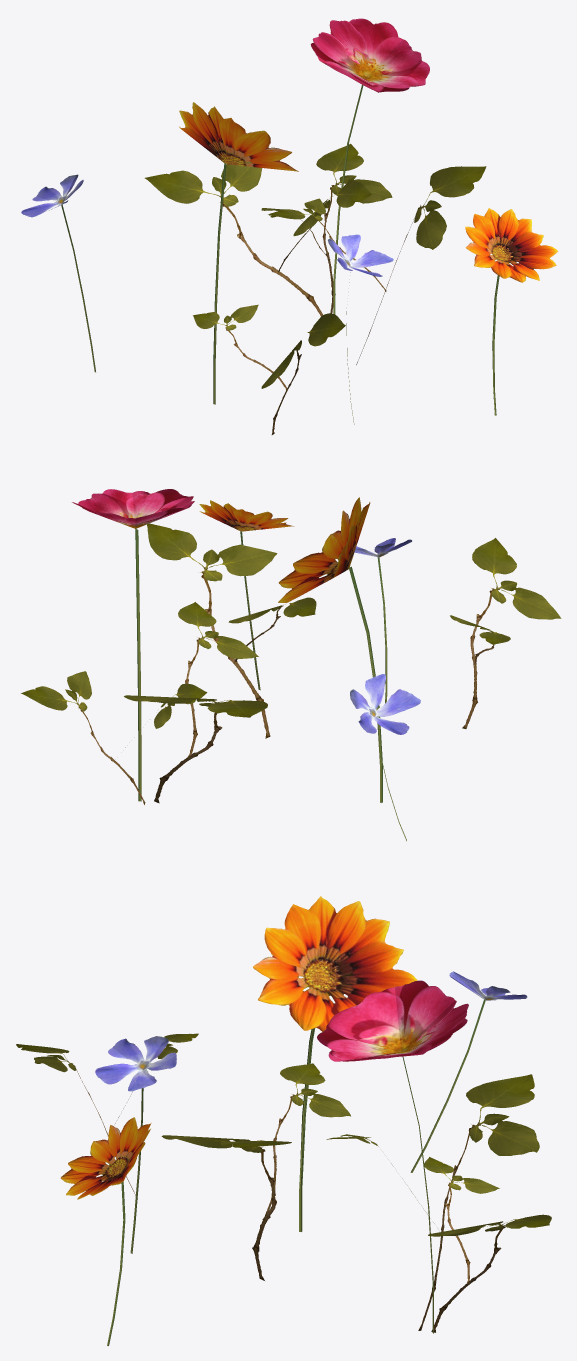
Rendered from LE_Flower04.fbx.
3 views of the same model, one above another, from view 1: azimuth 30°, elevation 25°; view 2: azimuth 150°, elevation 25°; view 3: azimuth 270°, elevation 25° (orthographic). The views are drawn at different scales.
Parts seen in each view (by area): view 1: flowers4; view 2: flowers4; view 3: flowers4.
Part boxes in pixels (x1,y1,x2,y2): flowers4: (21, 18, 558, 434); flowers4: (21, 489, 561, 841); flowers4: (16, 896, 551, 1345).
Size of the model in its own units: 0.652 by 0.4984 by 0.6615.
